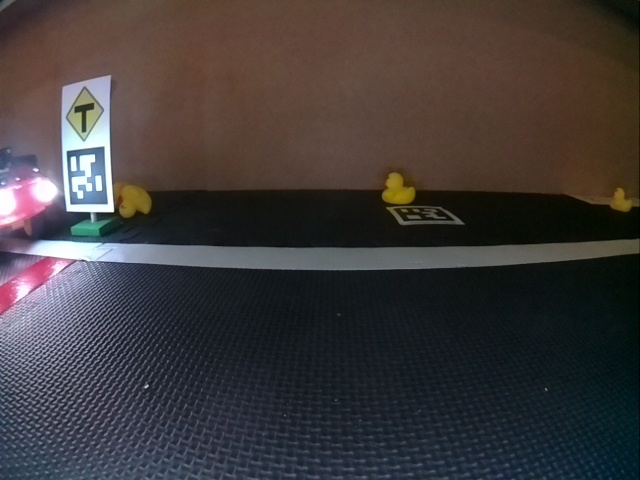Duckie: (382, 172, 416, 205), (119, 185, 150, 216), (611, 187, 632, 212)
Duckiebot: (0, 151, 56, 241)
Intersection sign: (63, 85, 106, 142)
QR code: (67, 146, 108, 206), (392, 206, 459, 225)
